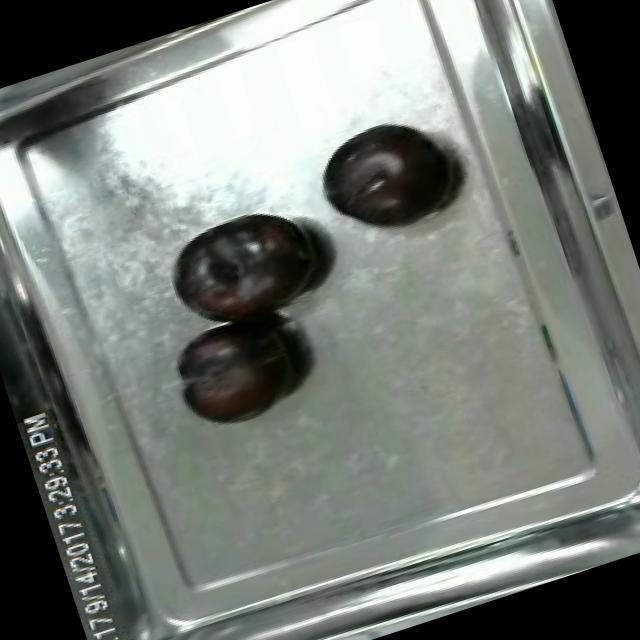Fruit: (150, 189, 338, 347), (306, 106, 466, 248), (160, 303, 320, 441)
